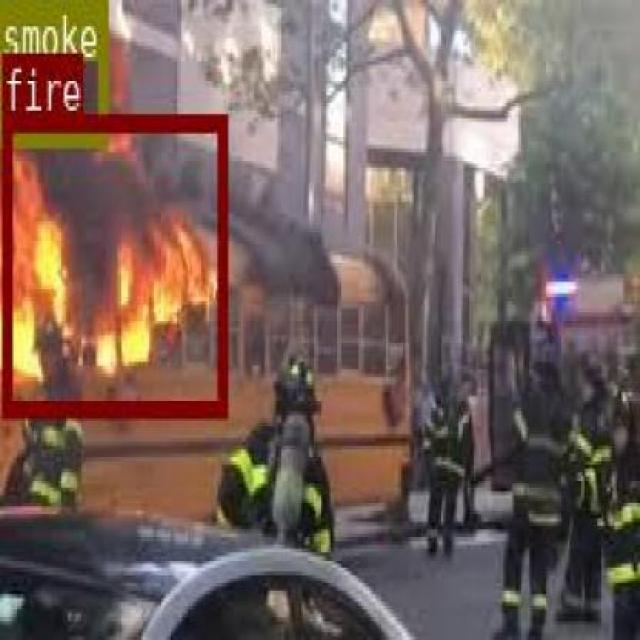Fire: (1, 112, 226, 412)
Smoke: (0, 0, 105, 142)
